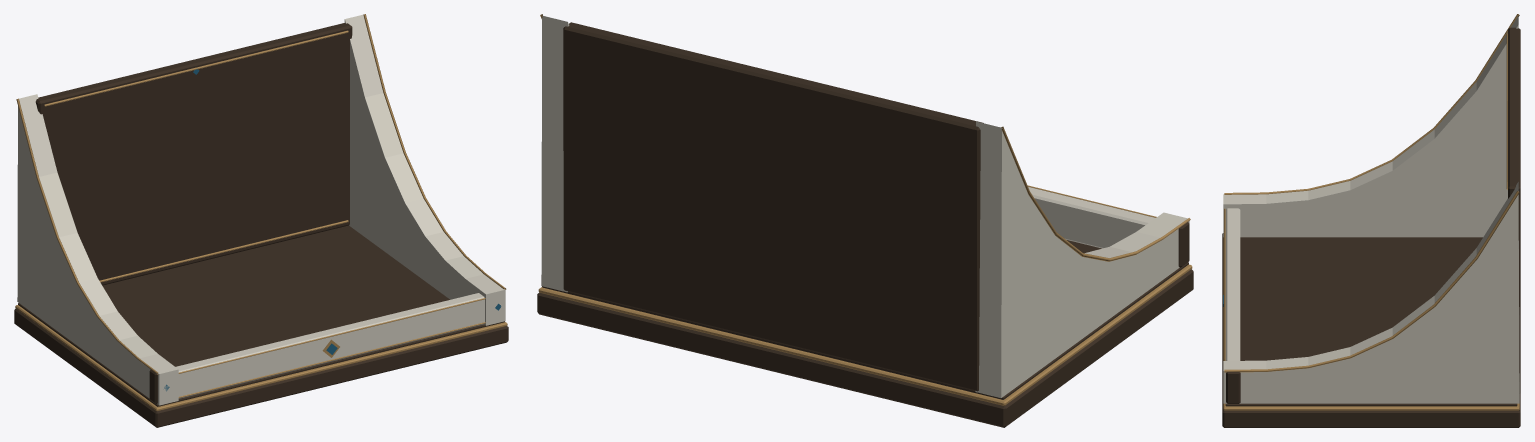
File: shelf-low.glb
3 renders of one model, left to right at view 1: azimuth 30°, elevation 25°; view 2: azimuth 150°, elevation 25°; view 3: azimuth 270°, elevation 25°, orthographic. The views are drawn at different scales.
Visible parts, largest first — view 1: ShelfVisual; view 2: ShelfVisual; view 3: ShelfVisual.
Boxes of the visible parts, <box> form: ShelfVisual: <box>14,14,508,427</box>; ShelfVisual: <box>537,14,1193,427</box>; ShelfVisual: <box>1222,14,1520,427</box>.
Bounding box in the file's own units: 0.128 × 0.0783 × 0.0896.
